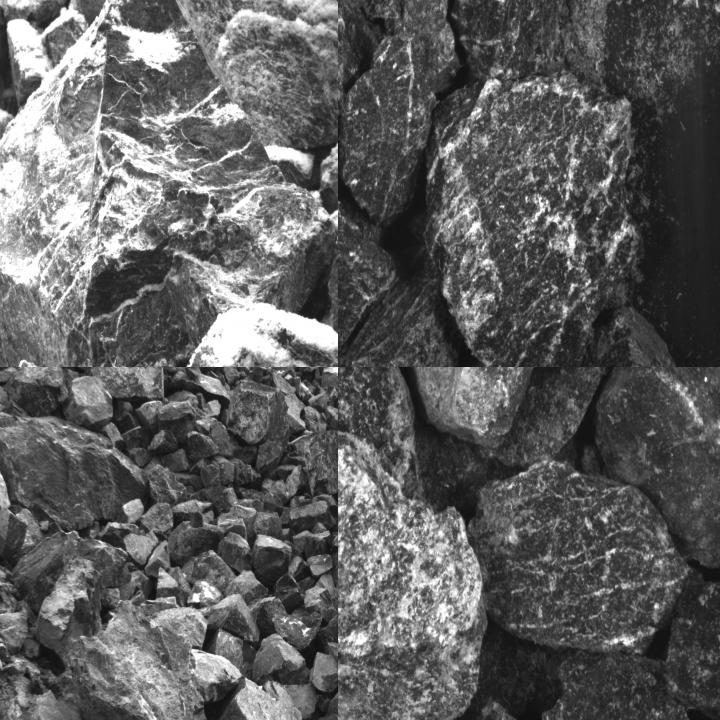stone: (0, 0, 332, 366), (426, 73, 636, 366), (467, 461, 692, 657), (338, 427, 488, 719), (596, 367, 719, 571), (65, 598, 212, 719), (0, 411, 148, 529), (339, 36, 433, 221), (497, 367, 662, 469), (398, 367, 588, 452), (338, 253, 464, 366), (338, 367, 429, 501), (436, 0, 568, 81), (543, 650, 691, 719), (528, 307, 687, 366), (369, 0, 459, 92), (34, 559, 104, 658), (338, 0, 380, 135), (227, 380, 289, 453), (4, 15, 51, 109), (218, 678, 311, 719), (200, 595, 260, 647), (6, 367, 71, 415), (79, 367, 165, 403), (252, 634, 312, 685), (186, 649, 242, 701), (65, 373, 113, 430), (4, 690, 95, 719), (170, 367, 232, 409), (167, 523, 225, 566), (272, 610, 322, 658), (303, 430, 337, 496), (252, 534, 292, 588), (187, 553, 235, 592), (0, 0, 65, 26), (218, 530, 254, 576), (159, 402, 196, 446), (148, 465, 187, 506), (287, 500, 337, 531), (0, 509, 29, 561), (122, 532, 159, 566), (0, 610, 28, 654), (140, 503, 175, 537), (304, 587, 338, 622), (201, 455, 235, 490), (309, 651, 337, 693), (273, 574, 302, 612), (206, 484, 239, 517), (185, 432, 219, 463), (255, 508, 282, 540), (173, 501, 213, 522), (319, 600, 337, 645), (285, 466, 310, 497), (115, 498, 144, 523), (306, 553, 332, 579), (126, 448, 152, 467)
